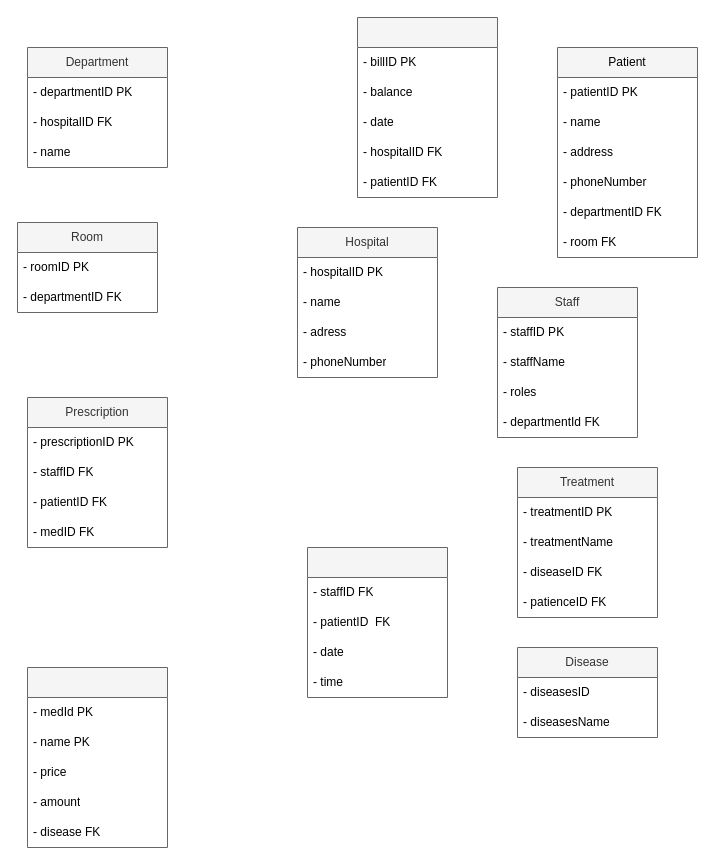
Image size: 715x865. Some labels were removed from this diagram. The shapes that lost their labels are listed below. From the top down, each one's box as (x1, y1, x2, y2) in pixels, then its label:
(356, 16, 498, 198): Accounting
(306, 546, 448, 698): Appoinment
(26, 666, 168, 848): Medicine
